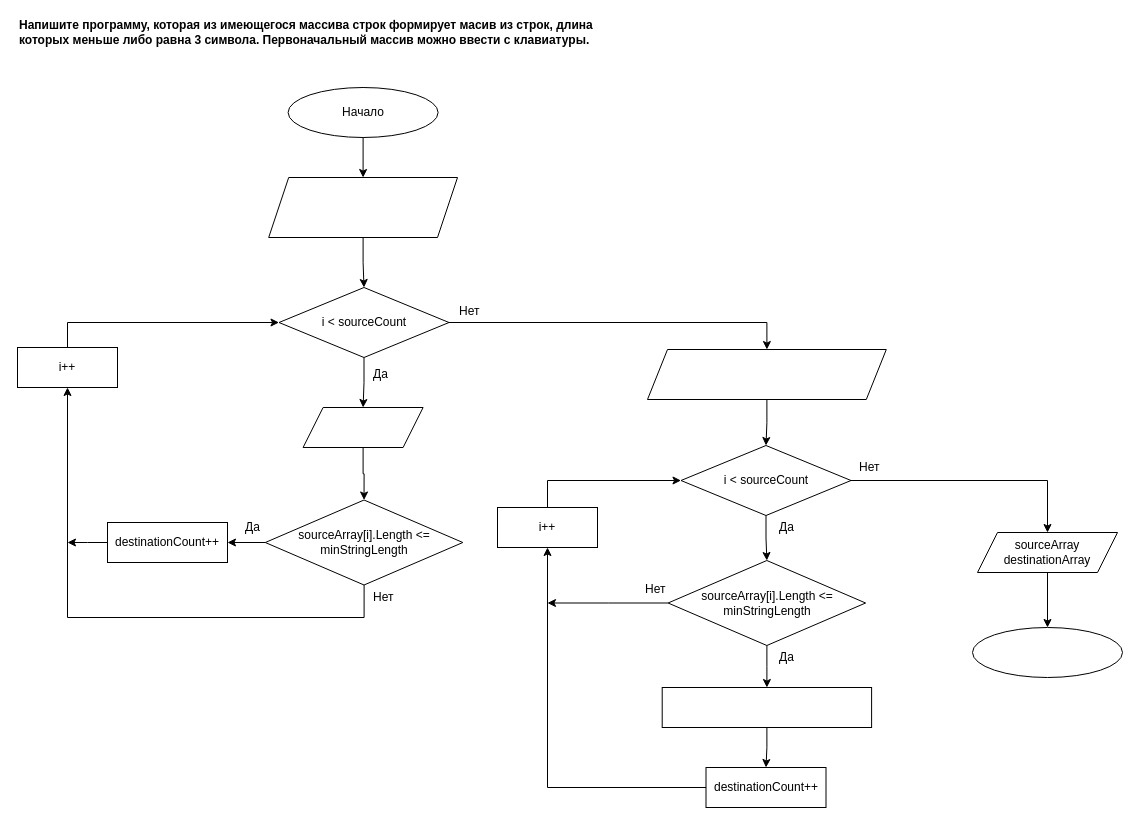
Image size: 1140x825. Some labels were removed from this diagram. The centre of each missing label's shape, as x and y in pixels:
destinationArray[destinationCount] = sourceArray[i]: point (766, 707)
destinationArray[destinationCount] destinationCount = 0: point (766, 374)
sourceArray[i]: point (362, 427)
sourceCount sourceArray[sourceCount] destinationCount = 0 minStringLength = 3: point (363, 207)
Конец: point (1047, 652)
